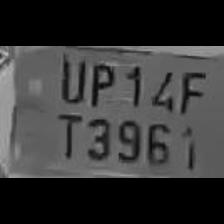1: (117, 58, 145, 108), (176, 121, 198, 171)
3: (82, 111, 112, 161)
4: (144, 60, 176, 113)
6: (140, 116, 172, 166)
9: (112, 113, 140, 163)
F: (172, 56, 208, 112)
P: (84, 58, 116, 108)
T: (52, 108, 82, 162)
U: (54, 52, 85, 102)
